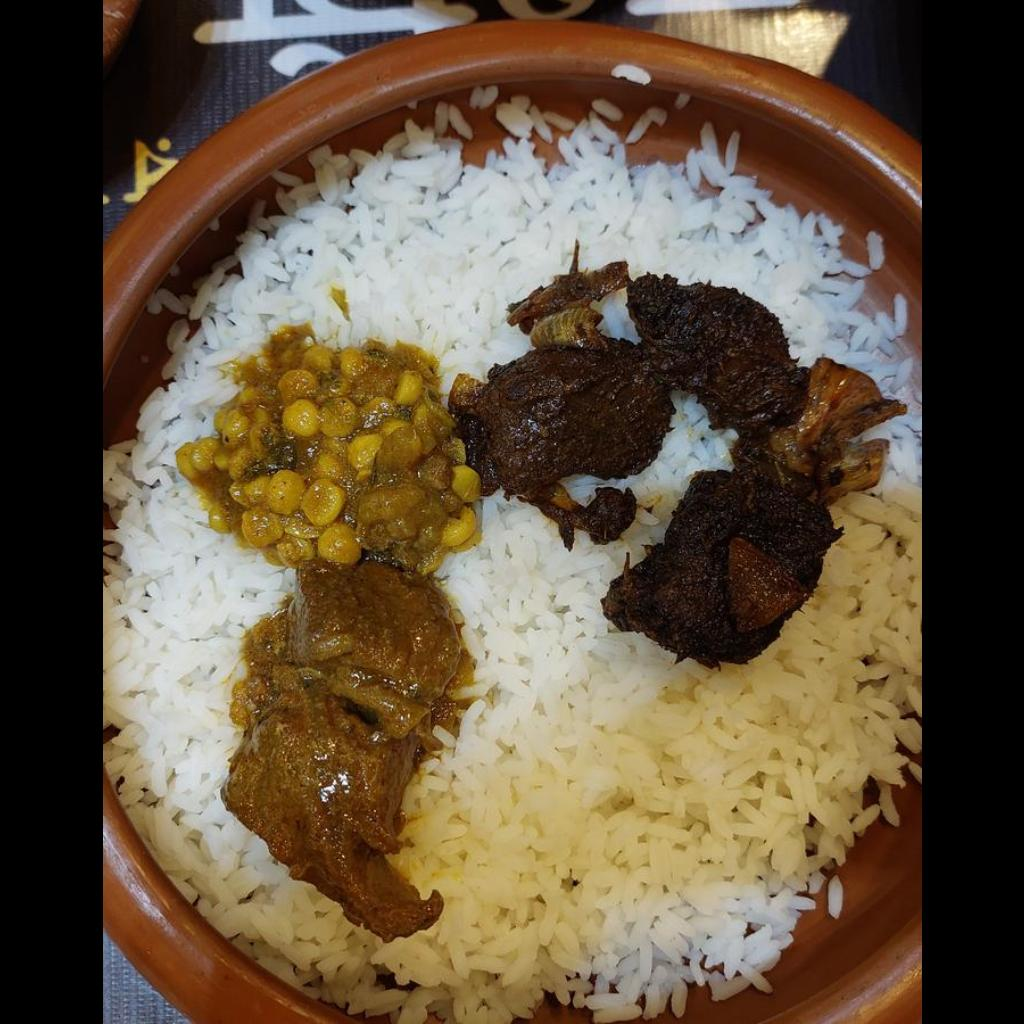beef: (472, 256, 835, 664)
chicken: (221, 572, 462, 939)
daal: (176, 327, 483, 577)
rice: (103, 465, 920, 1023)
